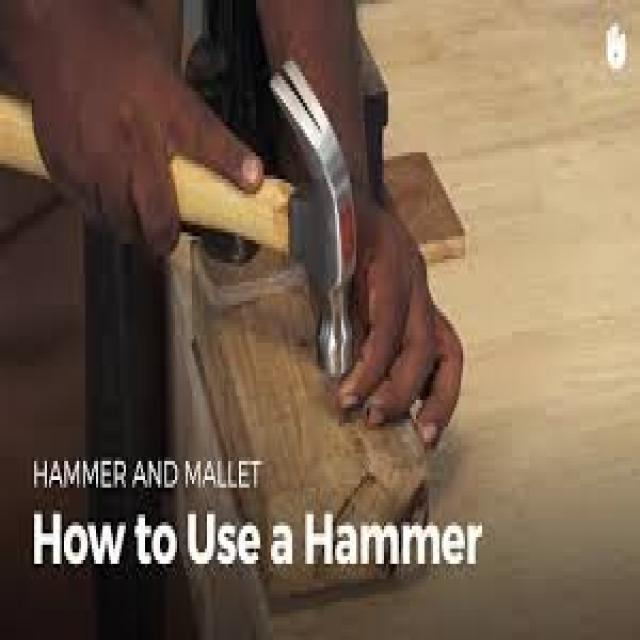hammer: (0, 65, 380, 385)
